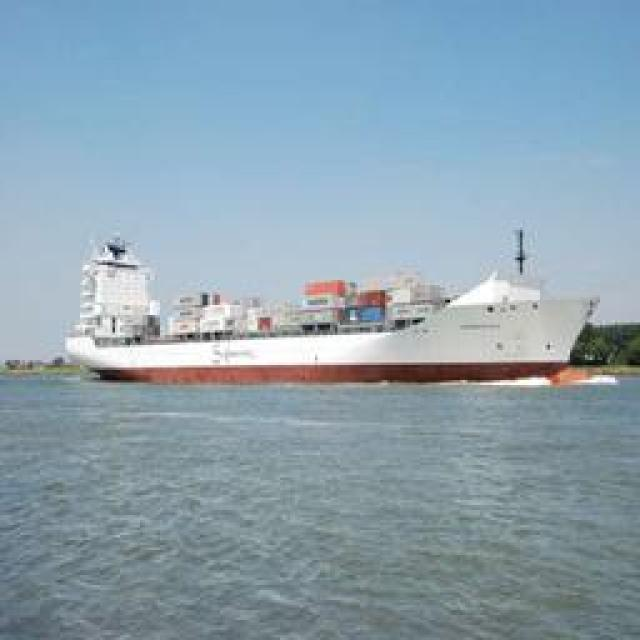ship2: (64, 227, 602, 388)
